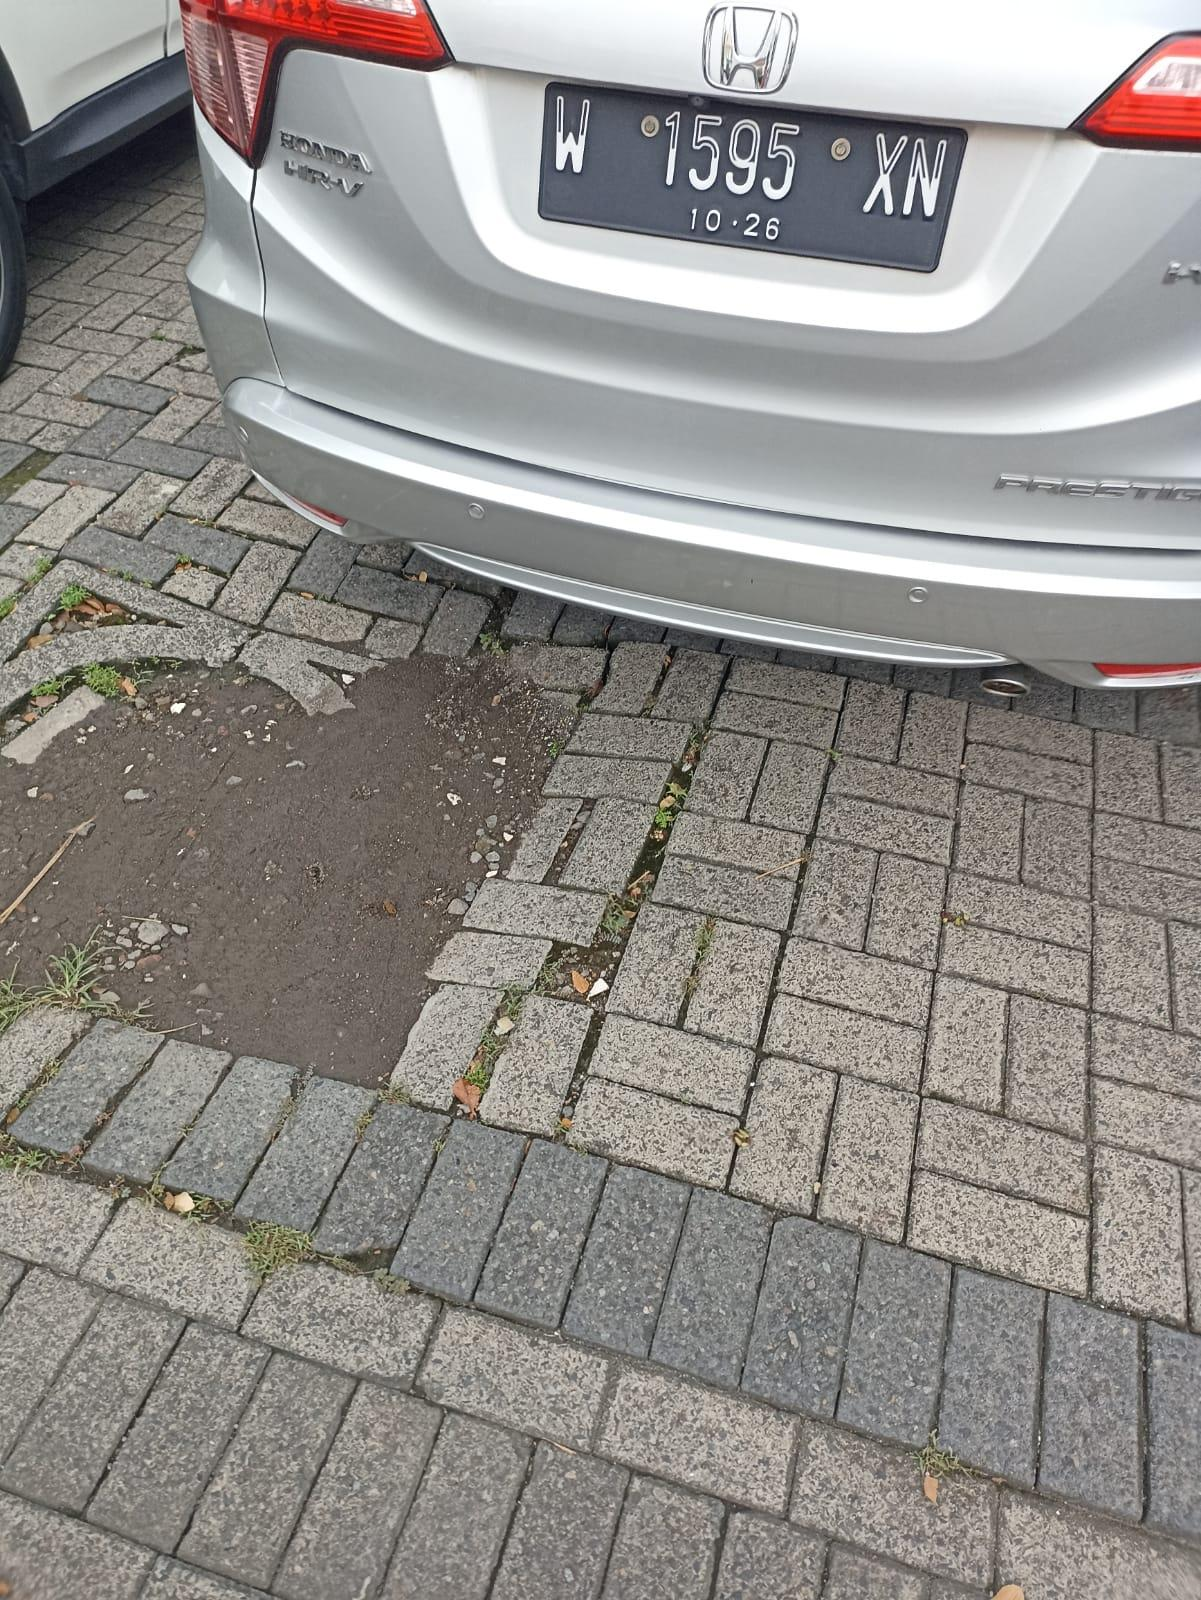plat: (537, 81, 969, 271)
